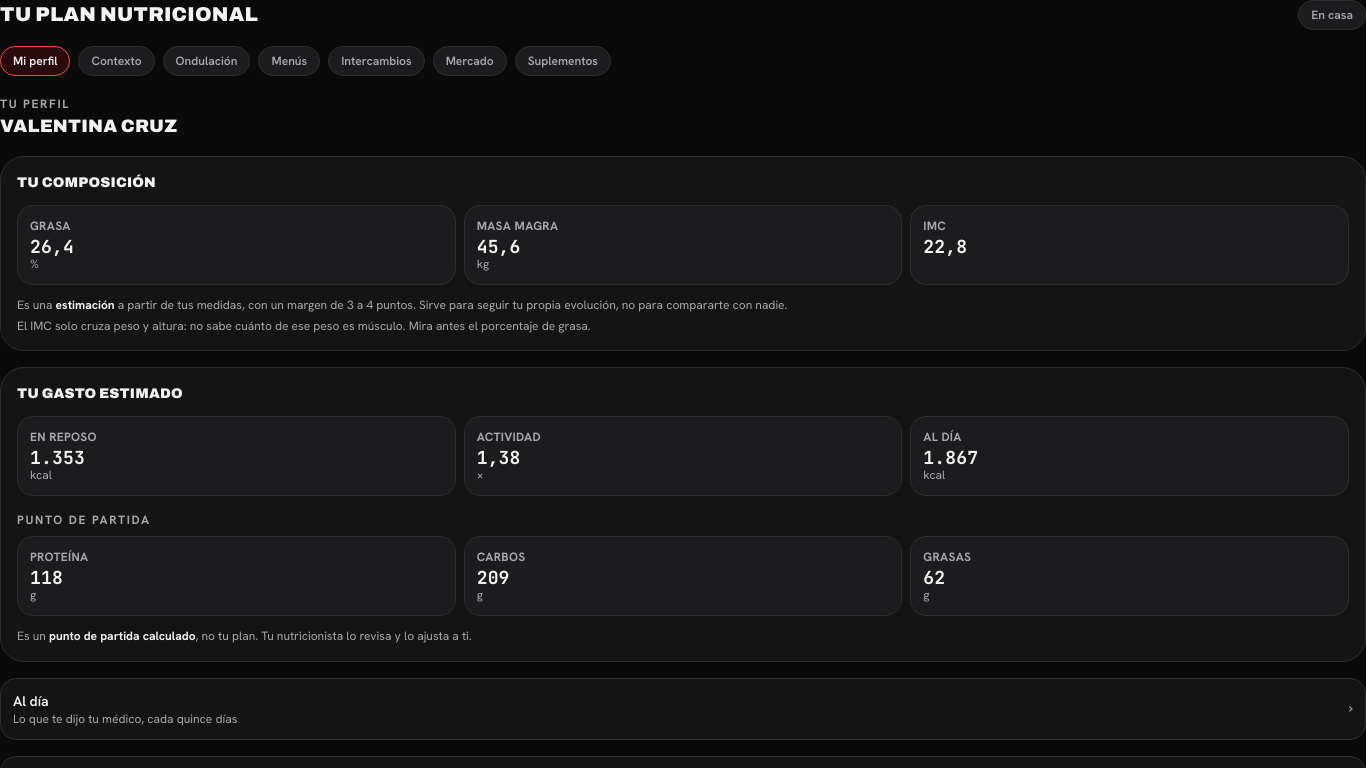
Test case: MiPlan › explica por qué las calorías ondulan
Step 1. Click the button "Ondulación" → (207,61), box [163, 46, 250, 76]
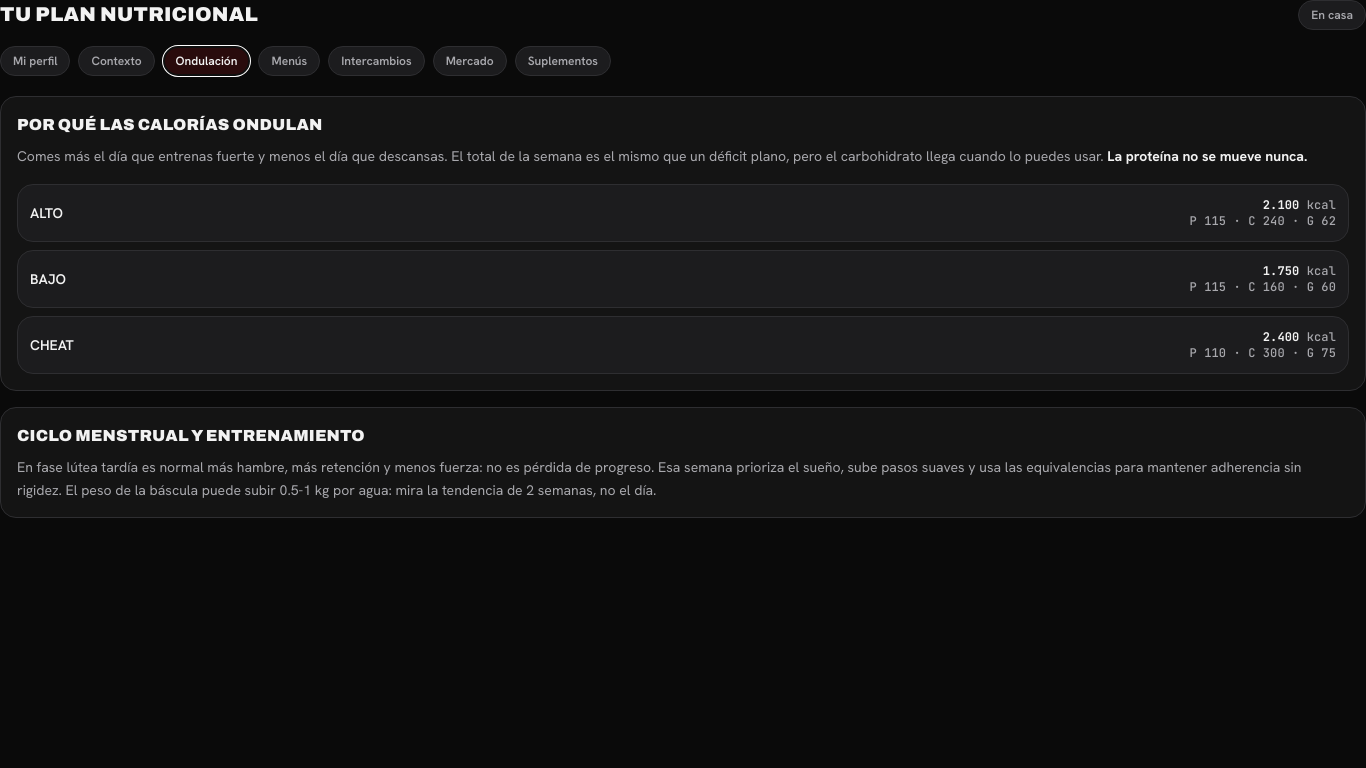
Expected: the text "La proteína no se mueve nunca." is shown, [1107, 147, 1307, 165]
